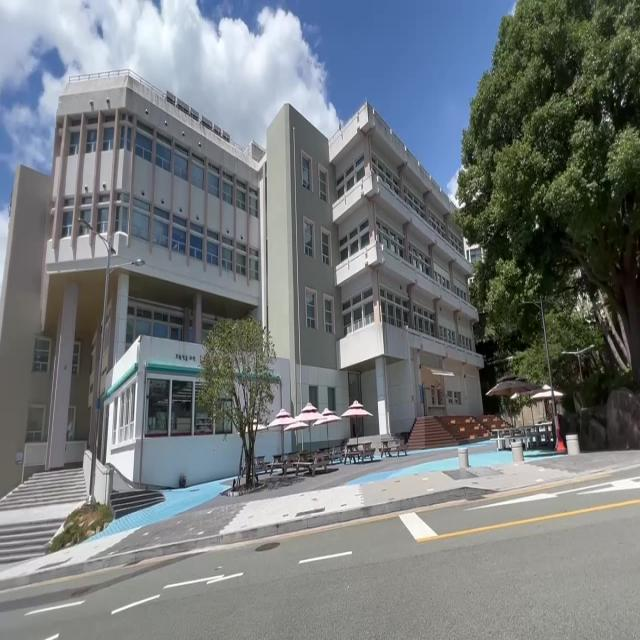building: (8, 46, 466, 422)
